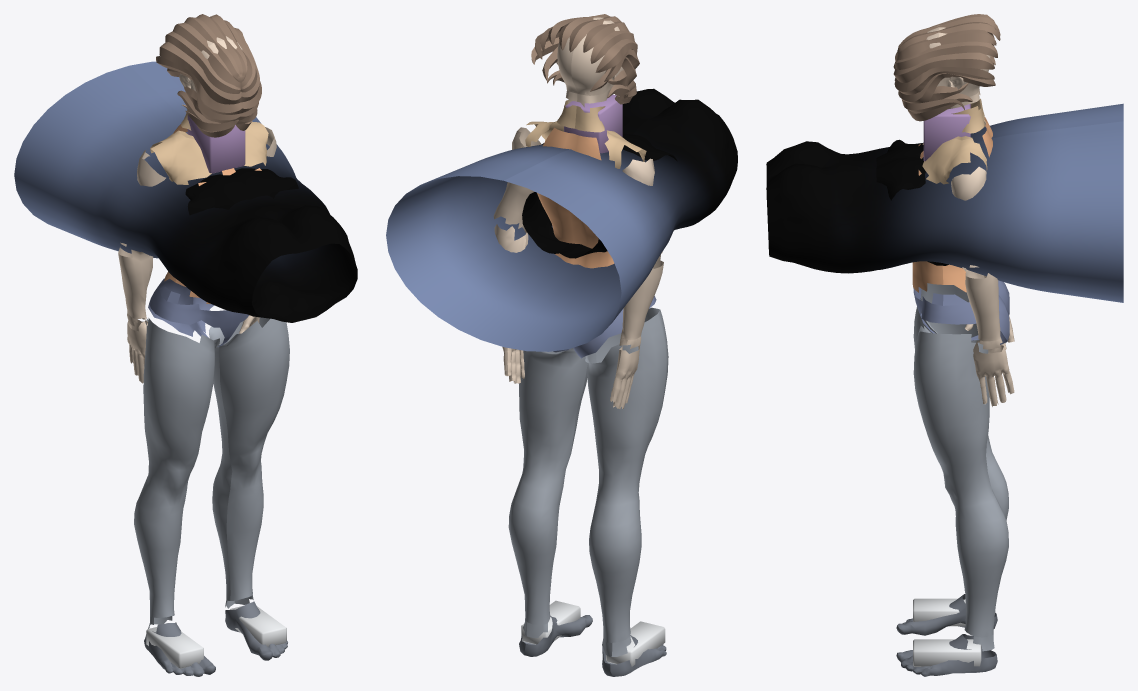
Rendered from staff-founder-idle.glb.
3 views of the same model, side by side, from view 1: azimuth 30°, elevation 25°; view 2: azimuth 150°, elevation 25°; view 3: azimuth 270°, elevation 25° (orthographic). The views are drawn at different scales.
Parts seen in each view (by area): view 1: Trousers, Leg_1, Leg_-1, Hair, Hips, Hoodie, Shoulder_1, Hood, LowerArm_1, Shoe_1, Foot_-1, Foot_1 (+4 smaller); view 2: Trousers, Leg_1, Leg_-1, Hair, Torso, Hoodie, Head, LowerArm_1, Hood, UpperArm_-1, Shoe_1, Hand_1 (+9 smaller); view 3: Trousers, Leg_-1, Hair, Hips, Hoodie, Leg_1, LowerArm_-1, Hand_-1, Shoulder_-1, Foot_-1, Shoe_-1, Torso (+6 smaller).
Boxes of the visible parts, x1=… form: Trousers: x1=14, y1=61, x2=357, y2=322; Leg_1: x1=134, y1=318, x2=219, y2=628; Leg_-1: x1=209, y1=317, x2=289, y2=608; Hair: x1=156, y1=14, x2=261, y2=137; Hips: x1=148, y1=278, x2=249, y2=346; Hoodie: x1=185, y1=168, x2=298, y2=215; Shoulder_1: x1=150, y1=130, x2=211, y2=184; Hood: x1=187, y1=115, x2=245, y2=173; LowerArm_1: x1=118, y1=247, x2=153, y2=326; Shoe_1: x1=146, y1=627, x2=203, y2=668; Foot_-1: x1=225, y1=601, x2=287, y2=660; Foot_1: x1=144, y1=622, x2=215, y2=676; Trousers: x1=386, y1=88, x2=737, y2=351; Leg_1: x1=585, y1=307, x2=668, y2=656; Leg_-1: x1=508, y1=348, x2=587, y2=637; Hair: x1=531, y1=14, x2=639, y2=104; Torso: x1=537, y1=127, x2=614, y2=268; Hoodie: x1=522, y1=132, x2=677, y2=258; Head: x1=556, y1=17, x2=623, y2=107; LowerArm_1: x1=619, y1=254, x2=663, y2=348; Hood: x1=564, y1=94, x2=622, y2=153; UpperArm_-1: x1=493, y1=127, x2=543, y2=228; Shoe_1: x1=606, y1=621, x2=665, y2=666; Hand_1: x1=610, y1=345, x2=640, y2=408; Trousers: x1=766, y1=103, x2=1123, y2=302; Leg_-1: x1=913, y1=326, x2=1008, y2=651; Hair: x1=893, y1=14, x2=1000, y2=121; Hips: x1=913, y1=280, x2=1009, y2=344; Hoodie: x1=876, y1=139, x2=948, y2=265; Leg_1: x1=913, y1=283, x2=1008, y2=519; LowerArm_-1: x1=962, y1=267, x2=1002, y2=349; Hand_-1: x1=973, y1=340, x2=1014, y2=406; Shoulder_-1: x1=922, y1=136, x2=987, y2=184; Foot_-1: x1=896, y1=634, x2=997, y2=676; Shoe_-1: x1=913, y1=639, x2=981, y2=666; Torso: x1=912, y1=117, x2=992, y2=292.
Bounding box in the file's own units: 0.6629 × 1.72 × 0.8829.
